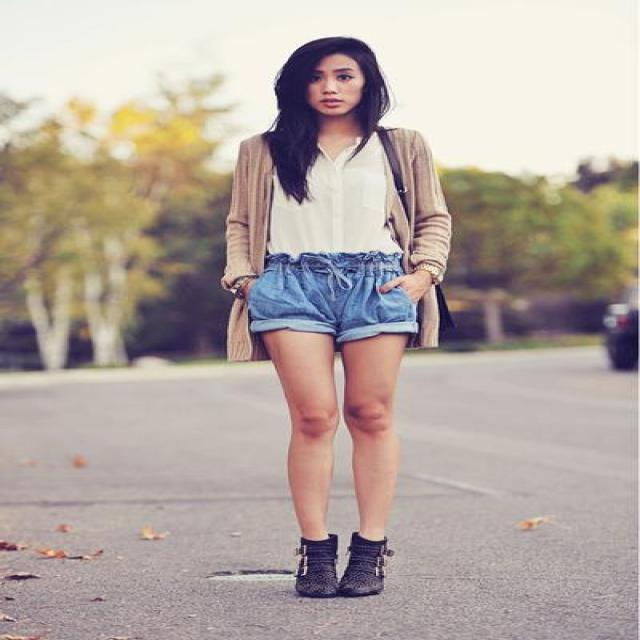jacket: (204, 128, 466, 361)
shirt: (269, 141, 405, 275)
shoe: (250, 532, 392, 598)
shorts: (229, 245, 438, 347)
